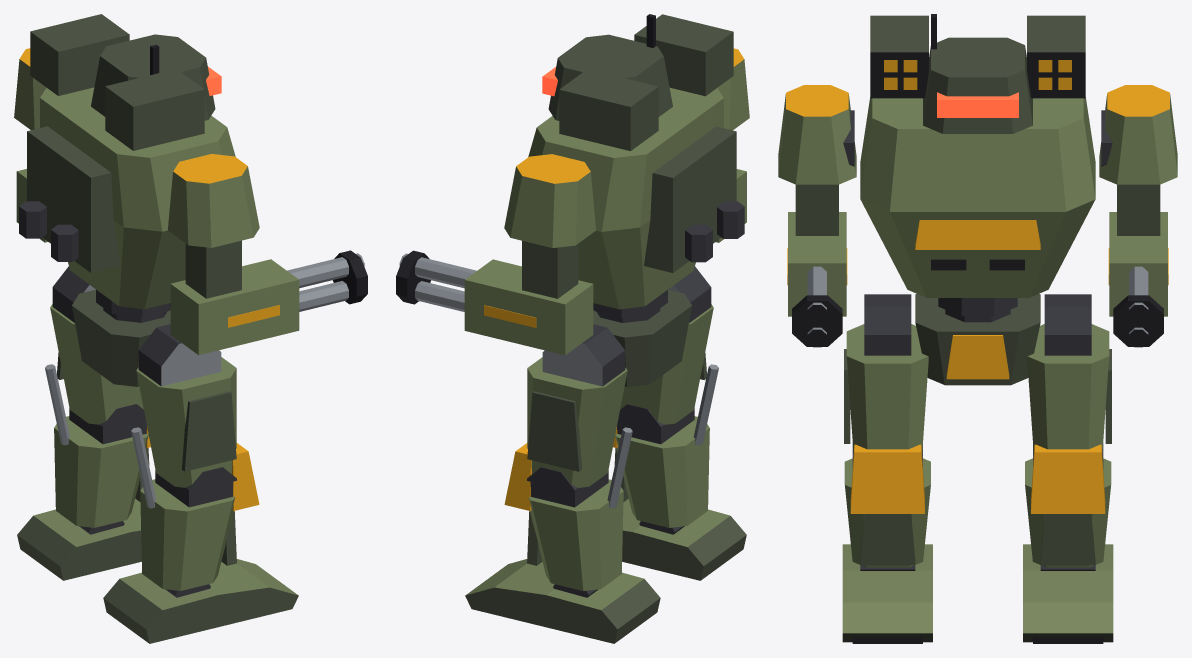
File: mech.glb
3 renders of one model, left to right at view 1: azimuth 30°, elevation 25°; view 2: azimuth 150°, elevation 25°; view 3: azimuth 270°, elevation 25°, orthographic. The views are drawn at different scales.
Parts seen in each view (by area): view 1: Torso, LegR, ArmR, LegL, Body, ArmL; view 2: Torso, LegL, ArmL, LegR, Body, ArmR; view 3: Torso, LegL, LegR, ArmL, ArmR, Body.
Part boxes in pixels (left/top/right/bottom): Torso: left=19, top=14, right=235, bottom=317; LegR: left=103, top=324, right=298, bottom=643; ArmR: left=168, top=154, right=367, bottom=355; LegL: left=17, top=266, right=150, bottom=580; Body: left=72, top=289, right=170, bottom=386; ArmL: left=14, top=48, right=47, bottom=242; Torso: left=528, top=14, right=744, bottom=317; LegL: left=465, top=324, right=660, bottom=643; ArmL: left=396, top=154, right=596, bottom=355; LegR: left=613, top=266, right=746, bottom=580; Body: left=593, top=289, right=691, bottom=386; ArmR: left=716, top=48, right=749, bottom=242; Torso: left=860, top=14, right=1095, bottom=316; LegL: left=1023, top=294, right=1113, bottom=643; LegR: left=842, top=294, right=932, bottom=643; ArmL: left=1099, top=85, right=1177, bottom=347; ArmR: left=778, top=85, right=856, bottom=347; Body: left=915, top=294, right=1040, bottom=385.
Size of the model in its own units: 0.7529 by 1.63 by 1.02.
